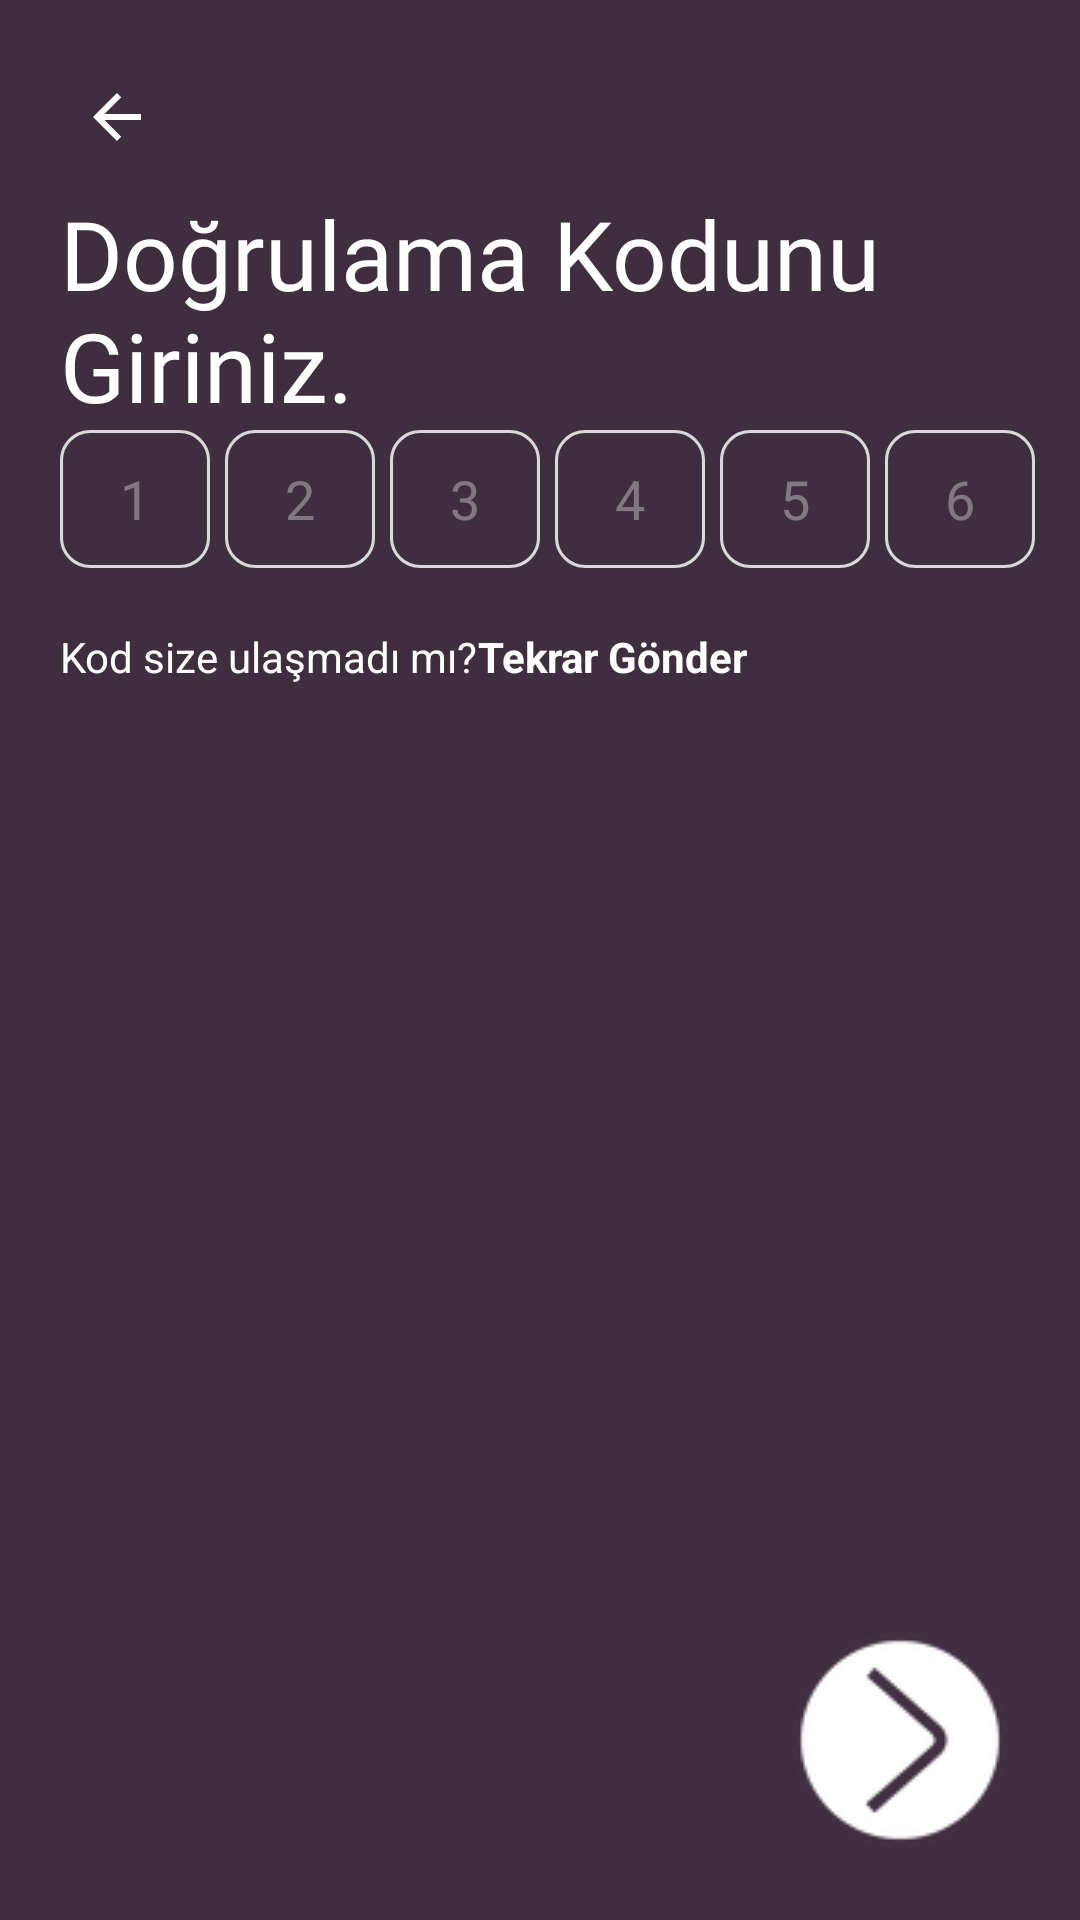

Icon bounding boxes for this 1080 × 1920 phone screenshot, format (x1, y1, x2, y2):
geri: (93, 93, 141, 141)
İleri Git: (800, 1640, 1000, 1840)
